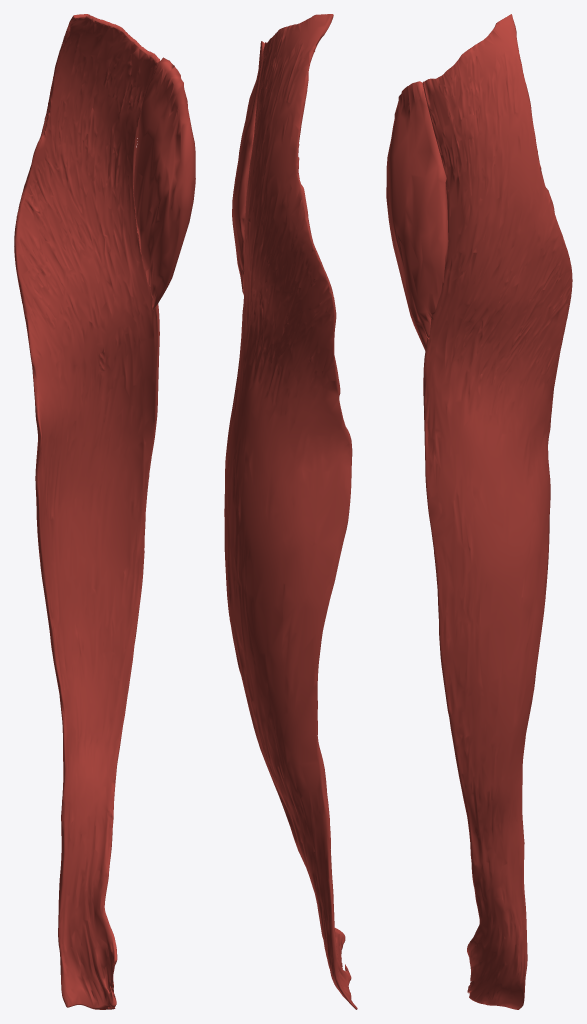
Rendered from musculos-tensor-fasciae-latae-l.glb.
3 views of the same model, side by side, from view 1: azimuth 90°, elevation 25°; view 2: azimuth 210°, elevation 25°; view 3: azimuth 270°, elevation 25° (orthographic). The views are drawn at different scales.
Visible parts, largest first — view 1: Iliotibial tract.l, Tensor fasciae latae.l; view 2: Iliotibial tract.l, Tensor fasciae latae.l; view 3: Iliotibial tract.l, Tensor fasciae latae.l.
Part boxes in pixels (left/top/right/bottom): Iliotibial tract.l: left=14, top=14, right=160, bottom=1009; Tensor fasciae latae.l: left=133, top=57, right=195, bottom=309; Iliotibial tract.l: left=224, top=14, right=357, bottom=1009; Tensor fasciae latae.l: left=232, top=41, right=264, bottom=294; Iliotibial tract.l: left=423, top=14, right=572, bottom=1009; Tensor fasciae latae.l: left=386, top=81, right=448, bottom=350.
Bounding box in the file's own units: 0.0714 × 0.6053 × 0.1015.
